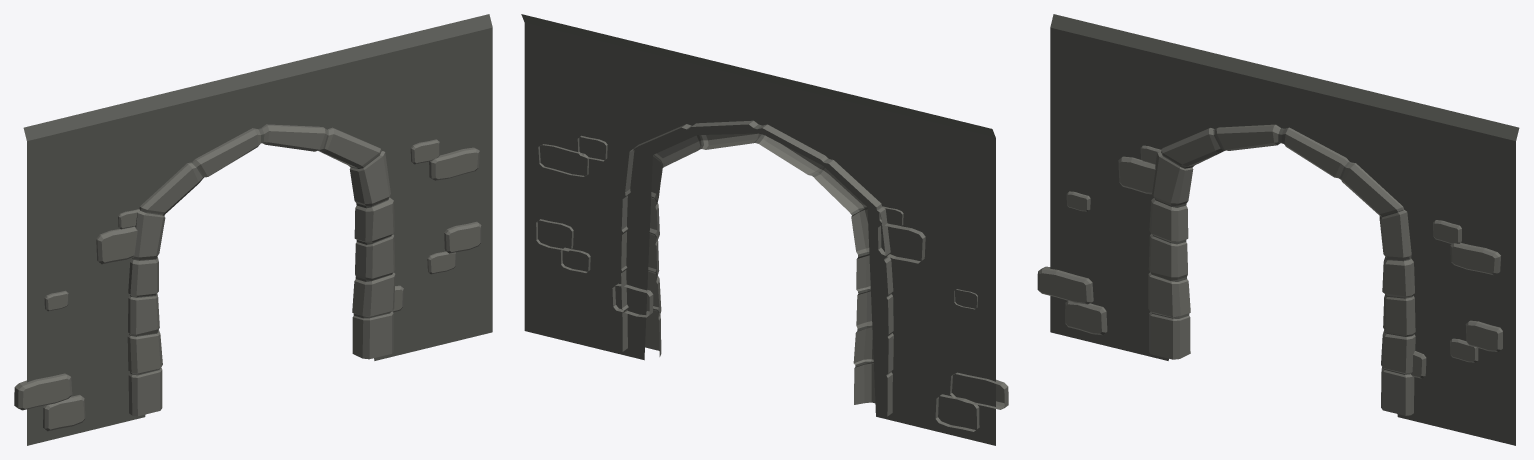
Rendered from stone_wall_gate.gltf.
3 views of the same model, side by side, from view 1: azimuth 30°, elevation 25°; view 2: azimuth 150°, elevation 25°; view 3: azimuth 330°, elevation 25° (orthographic).
Parts seen in each view (by area): view 1: Dungeon_Big_to_Custom; view 2: Dungeon_Big_to_Custom; view 3: Dungeon_Big_to_Custom.
Part boxes in pixels (box(x1,y1,x2,y2)): Dungeon_Big_to_Custom: box(14, 14, 492, 445); Dungeon_Big_to_Custom: box(521, 14, 1008, 445); Dungeon_Big_to_Custom: box(1037, 14, 1519, 445).
Size of the model in its own units: 8.18 by 5.18 by 0.3222.
1 material, 1 textured.
